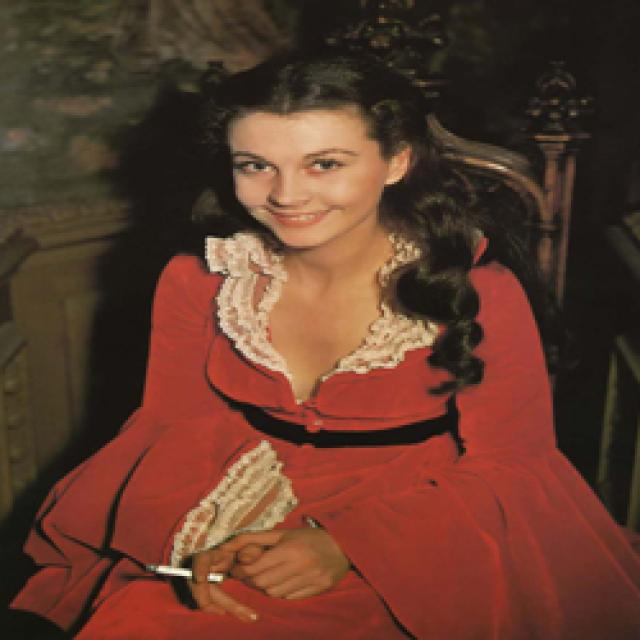Smooking: (141, 556, 229, 586)
